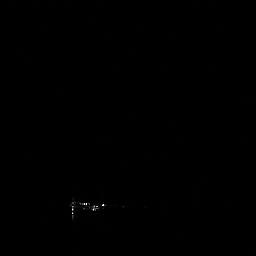ship: (68, 195, 107, 221)
